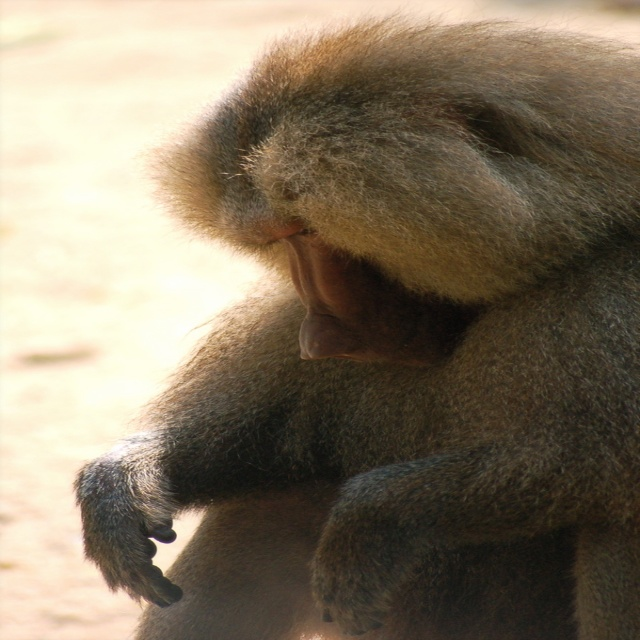Monkey: (70, 8, 639, 639)
